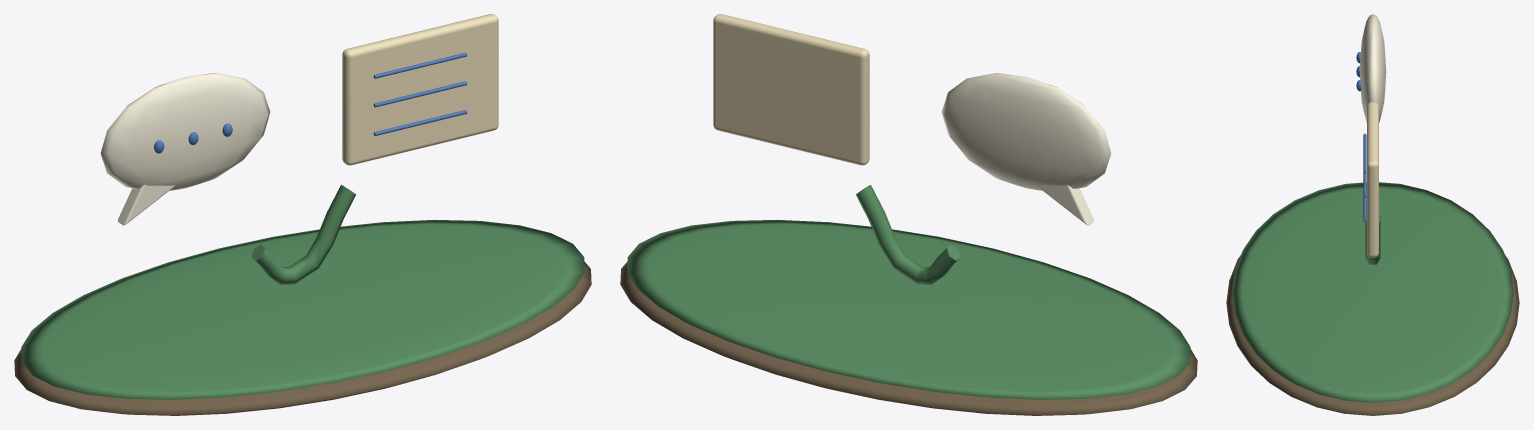
File: complete-first-should-respond.glb
3 renders of one model, left to right at view 1: azimuth 30°, elevation 25°; view 2: azimuth 150°, elevation 25°; view 3: azimuth 270°, elevation 25°, orthographic. The views are drawn at different scales.
Visible parts, largest first — view 1: complete-first-should-respond_surface_01, complete-first-should-respond_surface_04, complete-first-should-respond_surface_02, complete-first-should-respond_surface_00, complete-first-should-respond_surface_03; view 2: complete-first-should-respond_surface_01, complete-first-should-respond_surface_04, complete-first-should-respond_surface_02, complete-first-should-respond_surface_00; view 3: complete-first-should-respond_surface_01, complete-first-should-respond_surface_00, complete-first-should-respond_surface_02, complete-first-should-respond_surface_04, complete-first-should-respond_surface_03.
Part boxes in pixels (<box>): complete-first-should-respond_surface_01: <box>21,185,584,399</box>; complete-first-should-respond_surface_04: <box>342,14,498,165</box>; complete-first-should-respond_surface_02: <box>100,73,270,225</box>; complete-first-should-respond_surface_00: <box>14,261,591,415</box>; complete-first-should-respond_surface_03: <box>154,52,467,153</box>; complete-first-should-respond_surface_01: <box>627,185,1190,399</box>; complete-first-should-respond_surface_04: <box>713,14,869,165</box>; complete-first-should-respond_surface_02: <box>941,73,1111,225</box>; complete-first-should-respond_surface_00: <box>620,261,1197,415</box>; complete-first-should-respond_surface_01: <box>1232,182,1513,402</box>; complete-first-should-respond_surface_00: <box>1226,255,1519,415</box>; complete-first-should-respond_surface_02: <box>1360,14,1386,122</box>; complete-first-should-respond_surface_04: <box>1367,102,1378,257</box>; complete-first-should-respond_surface_03: <box>1356,52,1366,221</box>.
Bounding box in the file's own units: 4.56 × 2.29 × 2.5.
